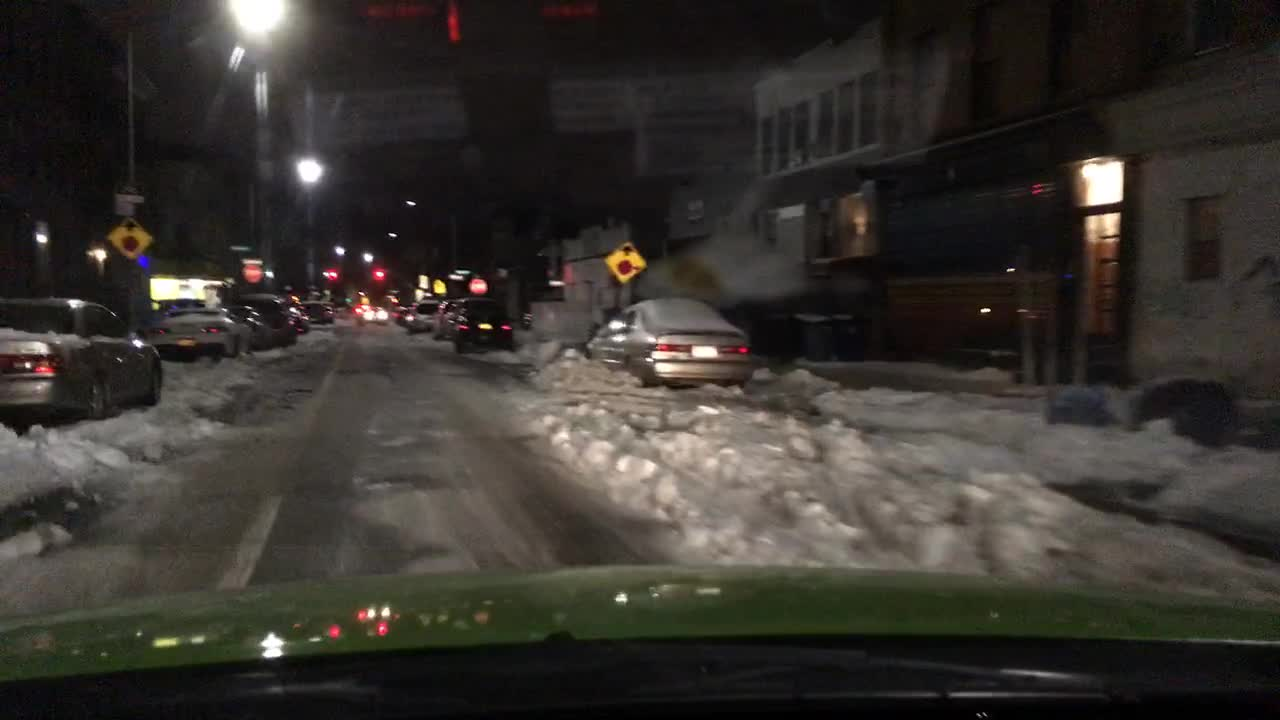car: (0, 291, 165, 430), (583, 295, 748, 391), (145, 306, 258, 361), (439, 299, 515, 351), (232, 294, 296, 345), (410, 300, 446, 333), (277, 301, 311, 335), (309, 300, 336, 325), (355, 305, 388, 325), (400, 306, 415, 329), (391, 305, 409, 321)
traffic light: (375, 267, 384, 279), (326, 270, 336, 279)
traffic sign: (106, 217, 152, 260), (601, 239, 643, 283), (117, 183, 143, 215), (242, 258, 263, 283), (467, 277, 487, 294), (229, 243, 254, 253), (431, 279, 447, 293)
